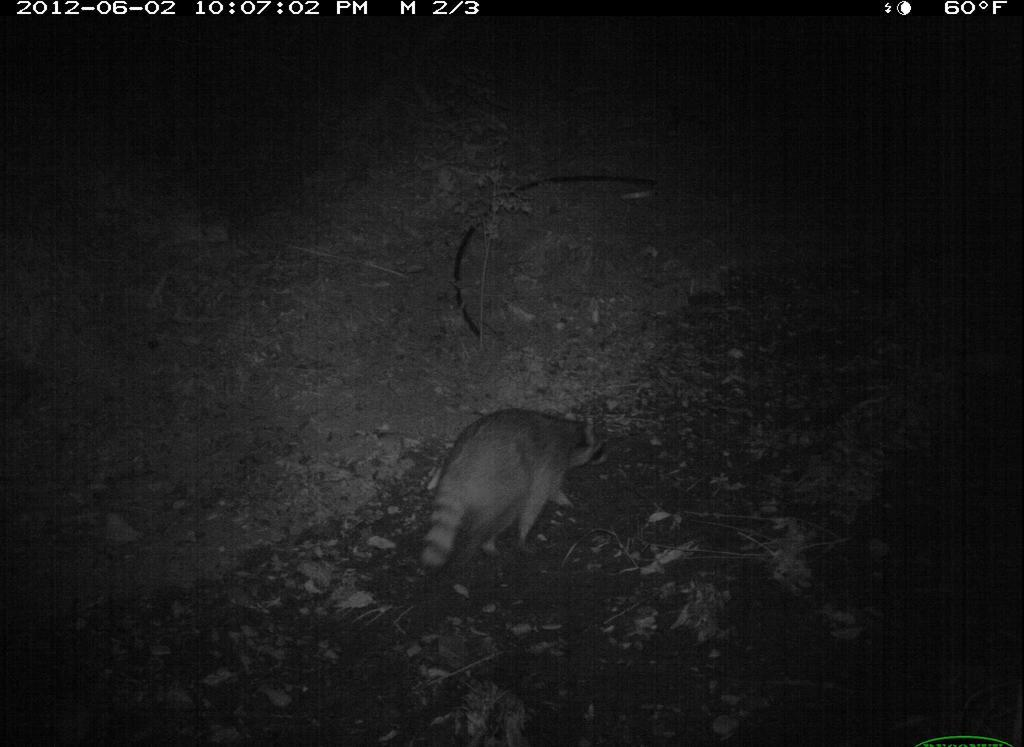raccoon: (419, 401, 619, 575)
